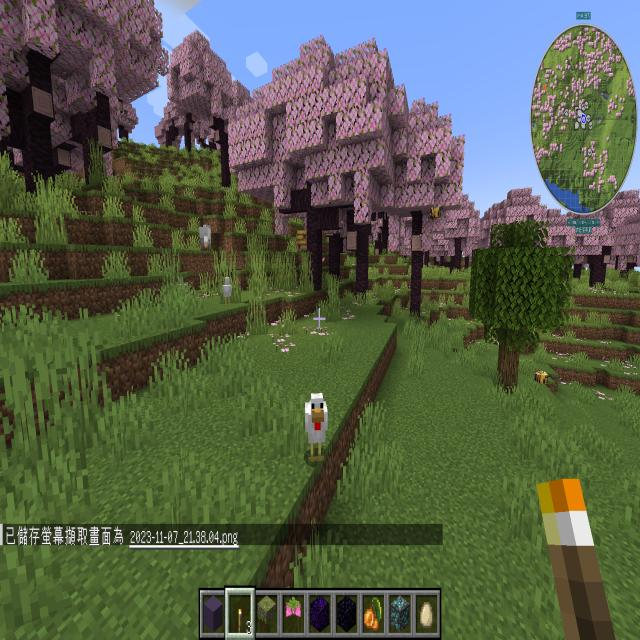bee: (532, 365, 552, 389), (428, 201, 442, 224)
chicken: (301, 388, 330, 467), (219, 274, 235, 308)
